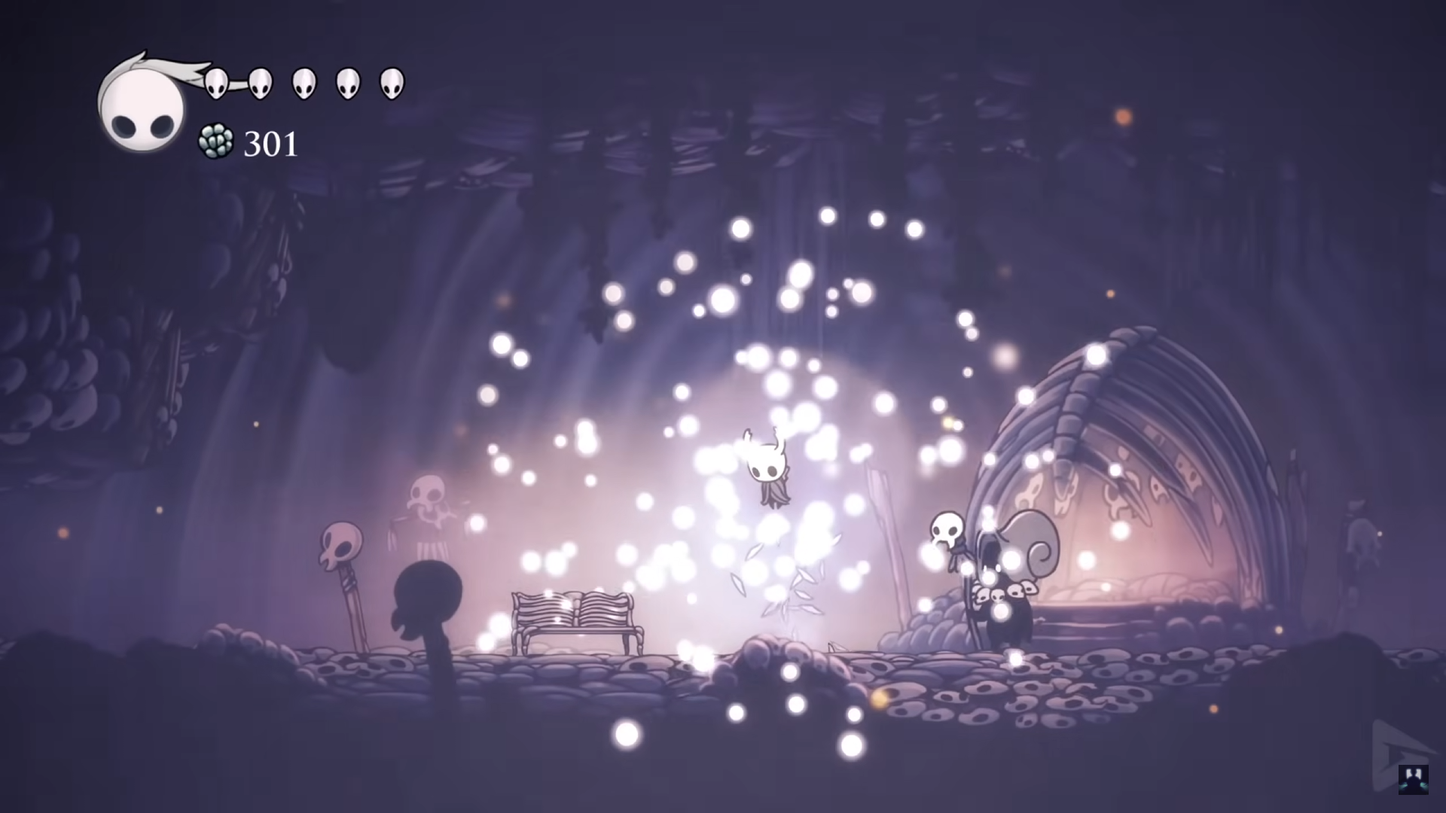HK: (731, 422, 798, 509)
